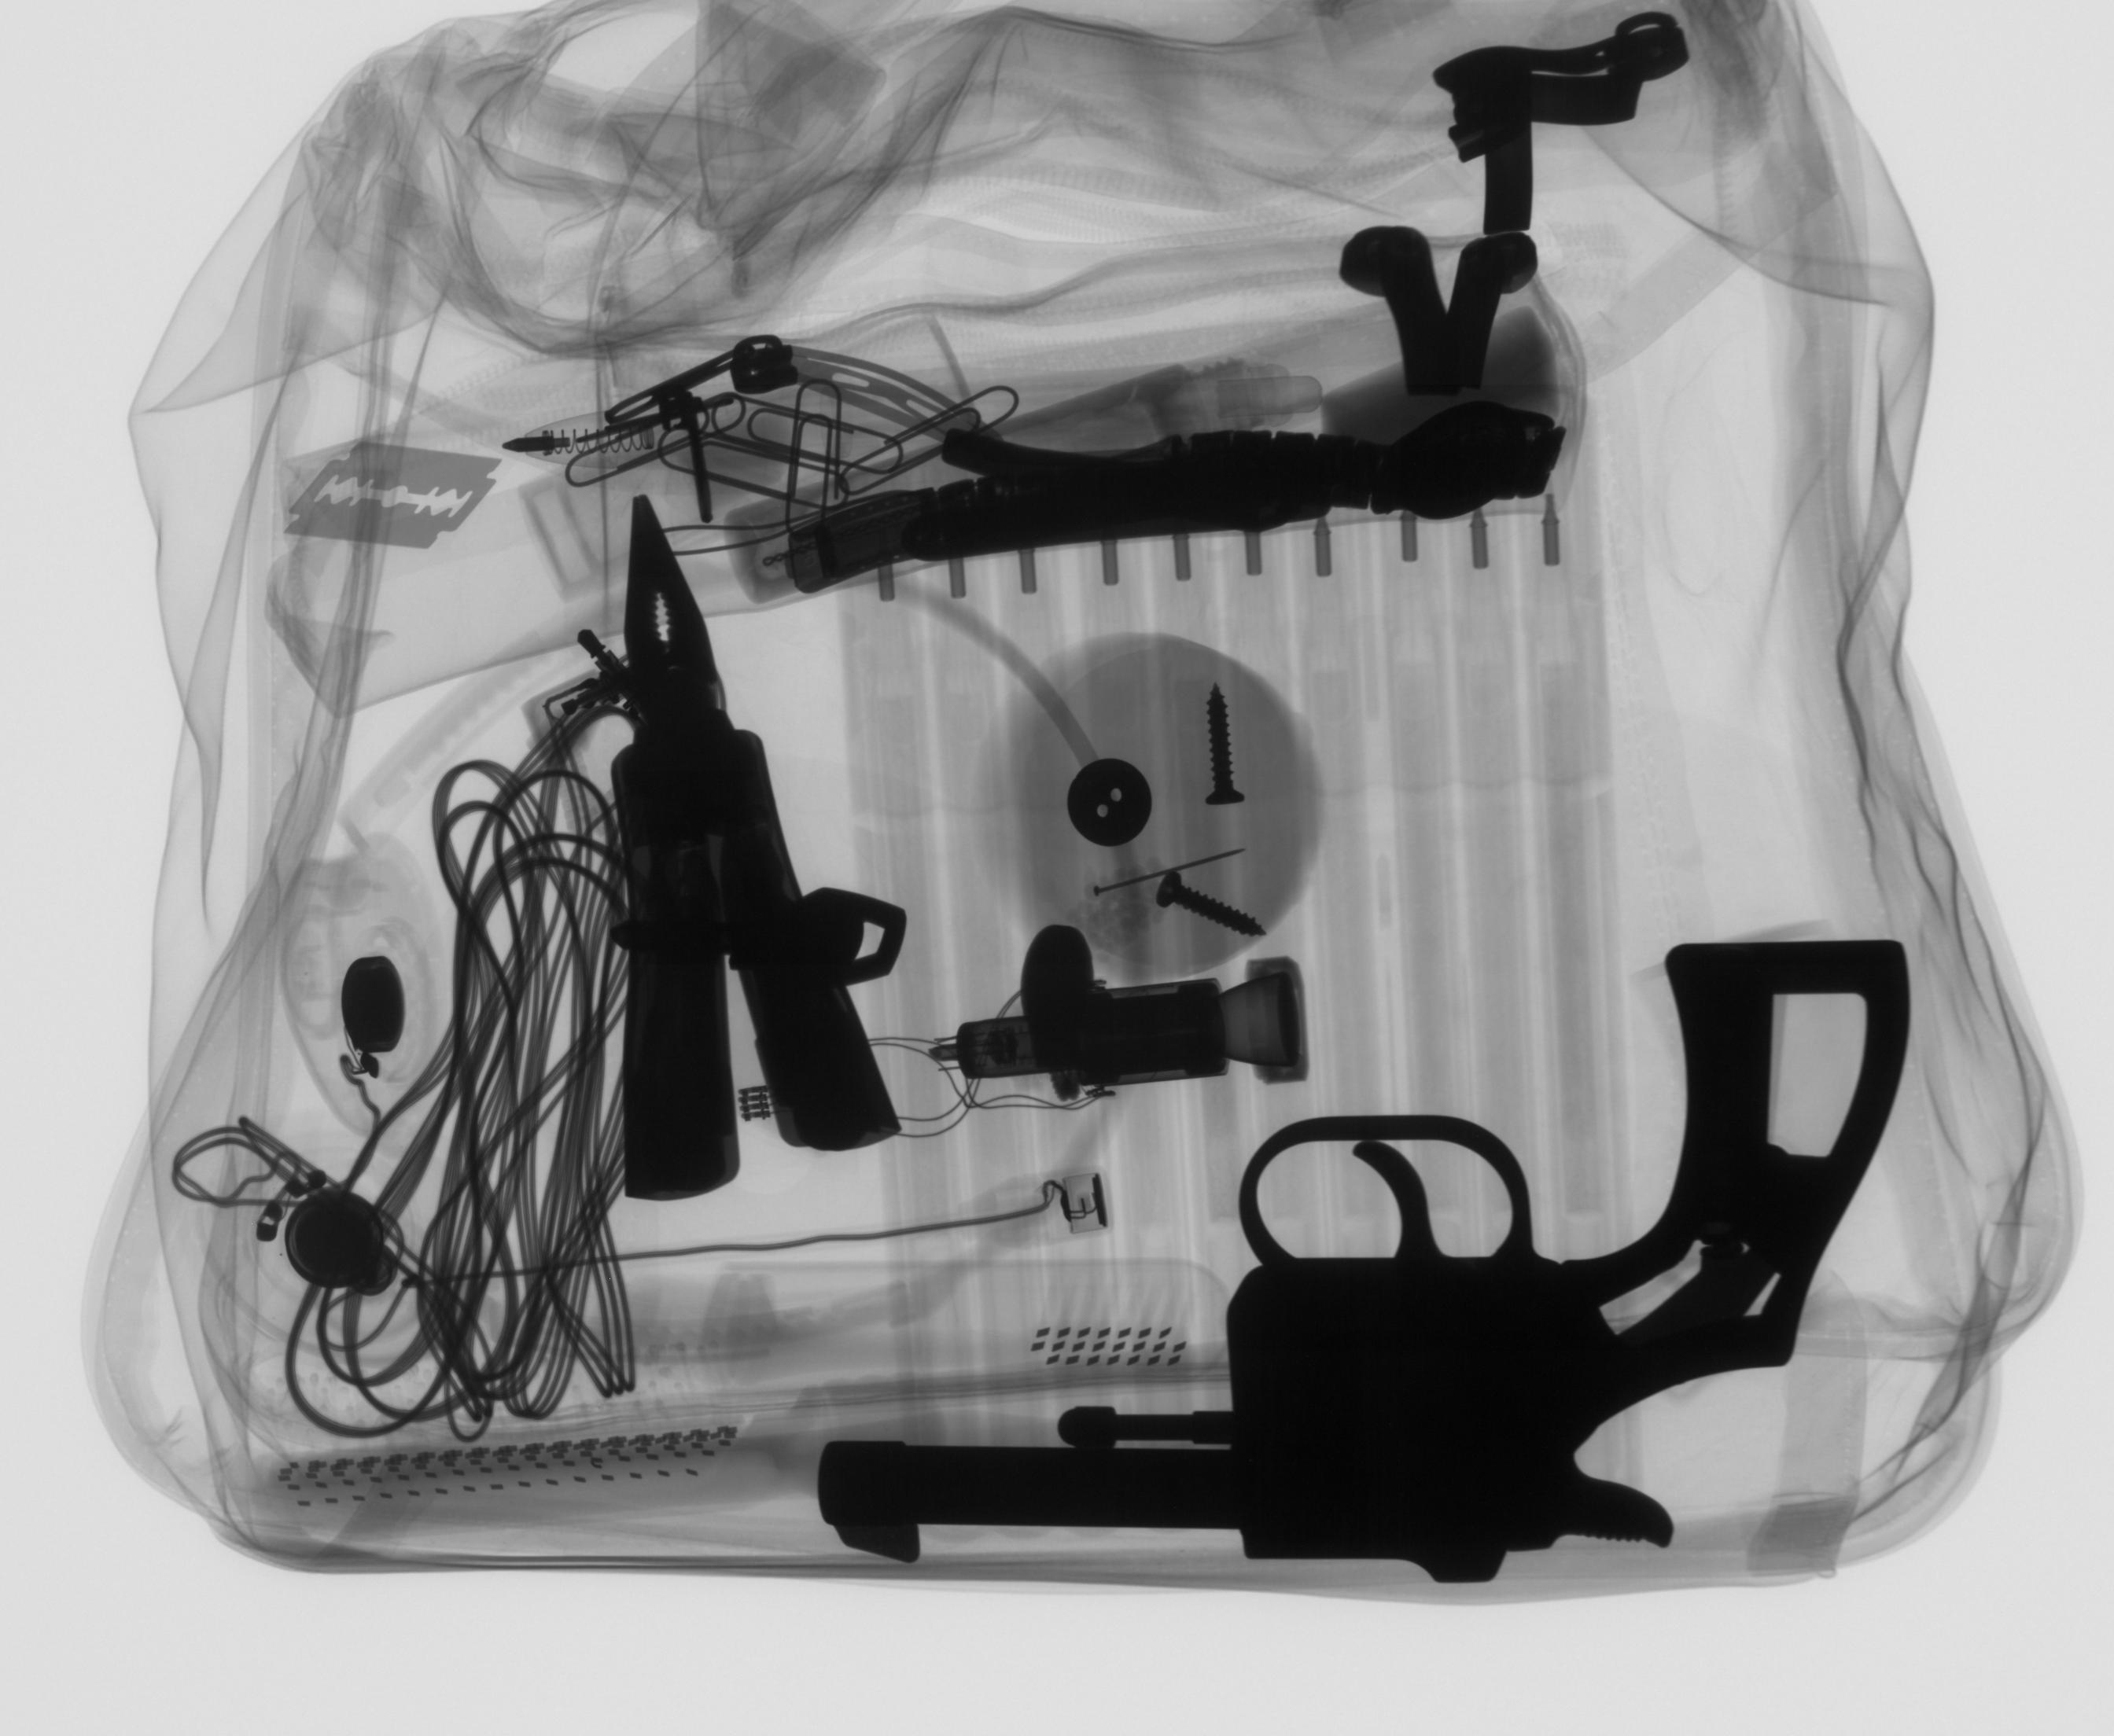Handgun: (806, 929, 1919, 1592)
RazorBlade: (277, 434, 507, 556)
